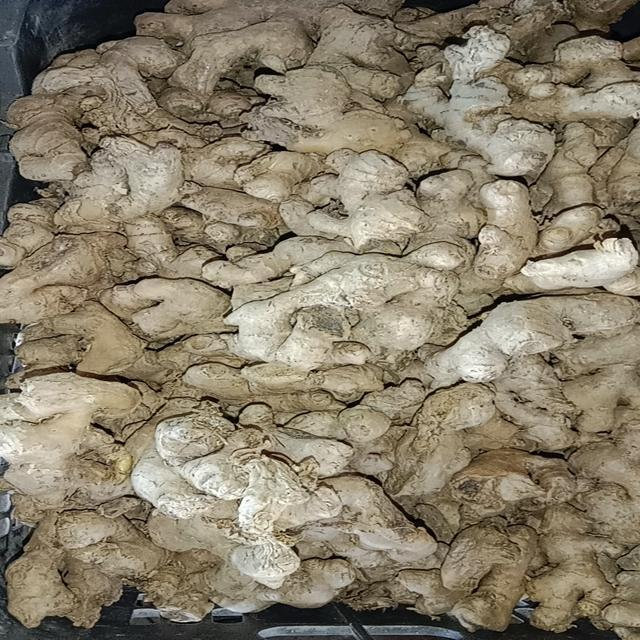ginger: (52, 64, 620, 588)
